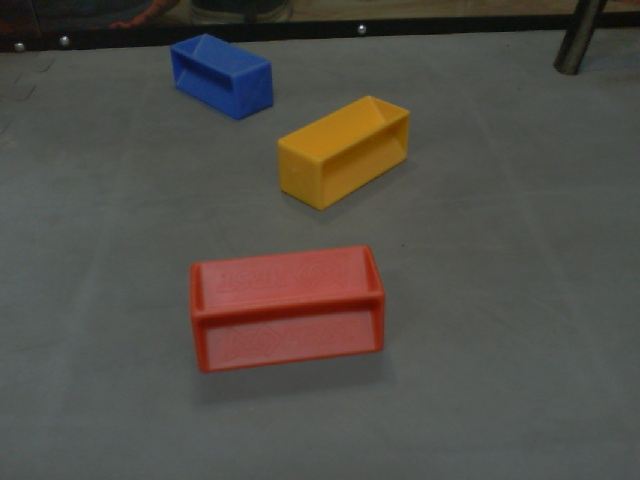BlueSample: (168, 31, 275, 122)
RedSample: (187, 244, 387, 376)
YellowSample: (274, 92, 410, 214)
